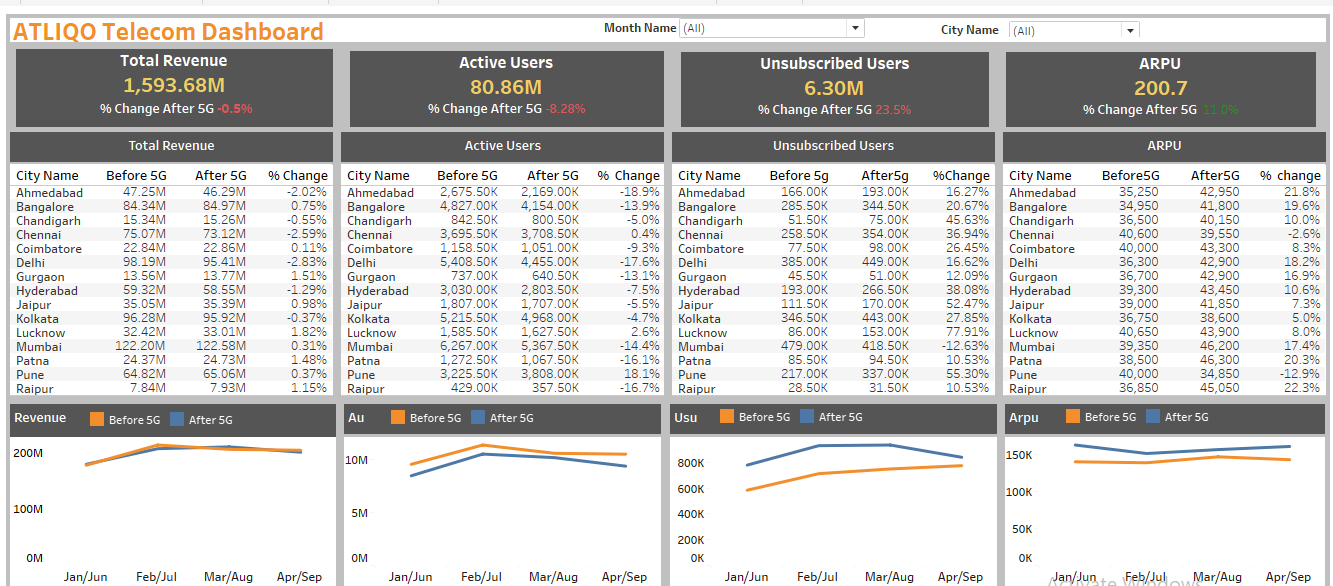

What the dashboard file says about the page in this screenshot:
{"tool":"tableau","page":{"name":"Dashboard 1","canvas":[1000,1000],"units":"permille","ordinal":0},"visuals":[{"type":"title","box":[6,13.5,988.1,54.1]},{"type":"filter","title":"Monthly Revenue Trend","param":"[federated.09lxh2o0y9f70t17g6btb0fhgqdw].[none:month_name:nk]","box":[452.2,18.6,197,38.9]},{"type":"filter","title":"Monthly Revenue Trend","param":"[federated.09lxh2o0y9f70t17g6btb0fhgqdw].[none:city_name:nk]","box":[698.5,25.3,156,27]},{"type":"worksheet","title":"Revenue","mark":"Automatic","box":[6,67.6,256.6,137.9]},{"type":"worksheet","title":"AU","mark":"Automatic","box":[262.6,67.6,247.2,137.9]},{"type":"worksheet","title":"USU","mark":"Text","box":[509.8,67.6,240.3,137.9]},{"type":"worksheet","title":"ARPU","mark":"Automatic","box":[750.1,67.6,243.9,137.9]},{"type":"worksheet","title":"city by Re","mark":"Text","rows":["city_name"],"box":[6,205.5,247,460]},{"type":"worksheet","title":"City by Au","mark":"Automatic","rows":["city_name"],"box":[253,205.5,247,460]},{"type":"worksheet","title":"City by USU","mark":"Text","rows":["city_name"],"box":[499.9,205.5,247,460]},{"type":"worksheet","title":"City by ARPU","mark":"Automatic","rows":["city_name"],"box":[746.9,205.5,247,460]},{"type":"worksheet","title":"Monthly Revenue Trend","mark":"Line","rows":["Calculation_1364027785729916928"],"cols":["Calculation_1675902059660554240"],"box":[6,665.5,249.6,321]},{"type":"worksheet","title":"Monthly AU Trend","mark":"Line","rows":["Calculation_1364027785731440642"],"cols":["Calculation_1675902059660554240"],"box":[255.6,665.5,242.9,321]},{"type":"worksheet","title":"Monthly USU Trend","mark":"Line","rows":["Calculation_1364027785730871297"],"cols":["Calculation_1675902059660554240"],"box":[498.5,665.5,250.4,321]},{"type":"worksheet","title":"Monthly ARPU Trend","mark":"Line","rows":["arpu"],"cols":["Calculation_1675902059660554240"],"box":[748.8,665.5,245.1,321]},{"type":"legend","title":"Monthly USU Trend","param":"[federated.09lxh2o0y9f70t17g6btb0fhgqdw].[none:before/after_5g:nk]","box":[536.6,675.7,173.9,45.6]},{"type":"legend","title":"Monthly ARPU Trend","param":"[federated.09lxh2o0y9f70t17g6btb0fhgqdw].[none:before/after_5g:nk]","box":[794.8,675.7,145.5,45.6]},{"type":"legend","title":"Monthly AU Trend","param":"[federated.09lxh2o0y9f70t17g6btb0fhgqdw].[none:before/after_5g:nk]","box":[290.9,677.4,158.4,47.3]},{"type":"legend","title":"Monthly Revenue Trend","param":"[federated.09lxh2o0y9f70t17g6btb0fhgqdw].[none:before/after_5g:nk]","box":[66.7,680.7,142,55.7]}]}

Visuals, with their boxes on the dashboard's canvas, which has no fixed pixel size, in thousandths of its width and height (x1, y1, x2, y2). These are canvas units, not pixel positions in the 1333x586 screenshot, which may show the page scaled, cropped or inside an application window:
title: 6 14 994 68
"Monthly Revenue Trend" filter: 452 19 649 58
"Monthly Revenue Trend" filter: 698 25 854 52
"Revenue" worksheet: 6 68 263 206
"AU" worksheet: 263 68 510 206
"USU" worksheet (Text marks): 510 68 750 206
"ARPU" worksheet: 750 68 994 206
"city by Re" worksheet (Text marks): 6 206 253 666
"City by Au" worksheet: 253 206 500 666
"City by USU" worksheet (Text marks): 500 206 747 666
"City by ARPU" worksheet: 747 206 994 666
"Monthly Revenue Trend" worksheet (Line marks): 6 666 256 986
"Monthly AU Trend" worksheet (Line marks): 256 666 498 986
"Monthly USU Trend" worksheet (Line marks): 498 666 749 986
"Monthly ARPU Trend" worksheet (Line marks): 749 666 994 986
"Monthly USU Trend" legend: 537 676 710 721
"Monthly ARPU Trend" legend: 795 676 940 721
"Monthly AU Trend" legend: 291 677 449 725
"Monthly Revenue Trend" legend: 67 681 209 736
